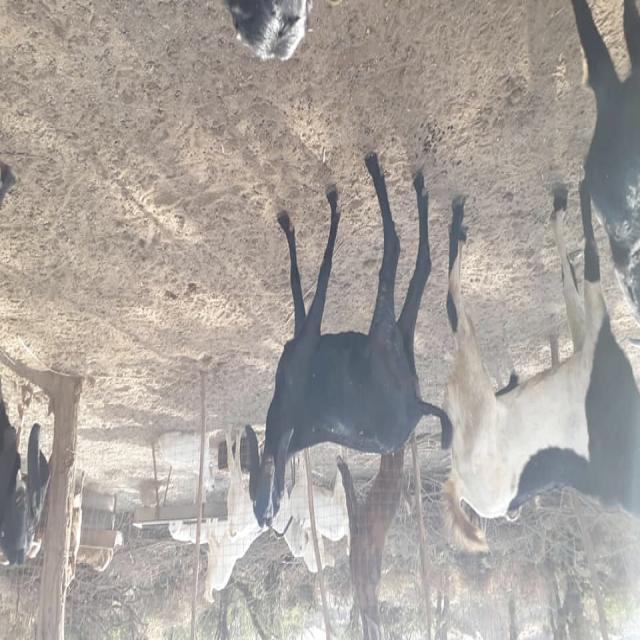Goat: (244, 153, 453, 537), (439, 179, 639, 555), (570, 3, 639, 330), (336, 447, 412, 640), (0, 379, 50, 569), (221, 1, 313, 64)
